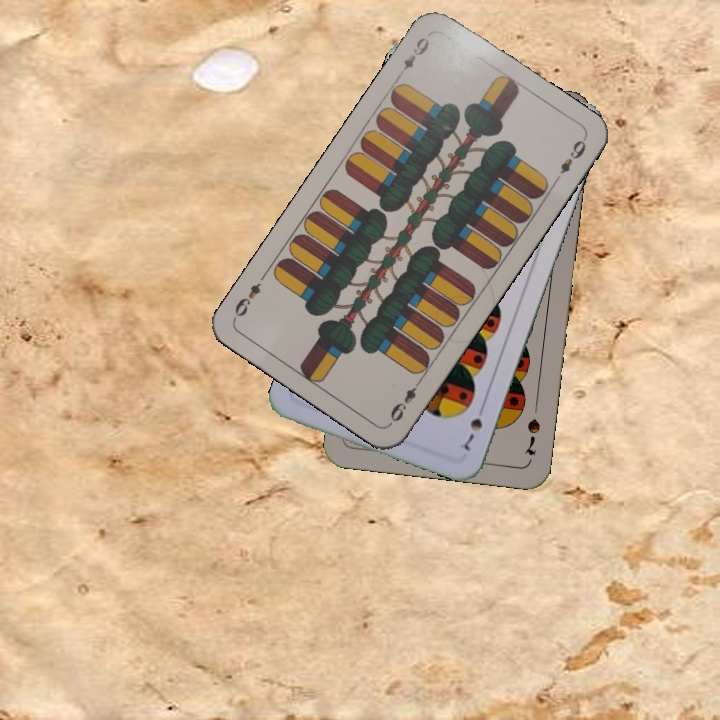E9: (385, 375, 425, 427), (393, 33, 432, 81)
S7: (459, 399, 488, 454), (520, 414, 543, 458)
